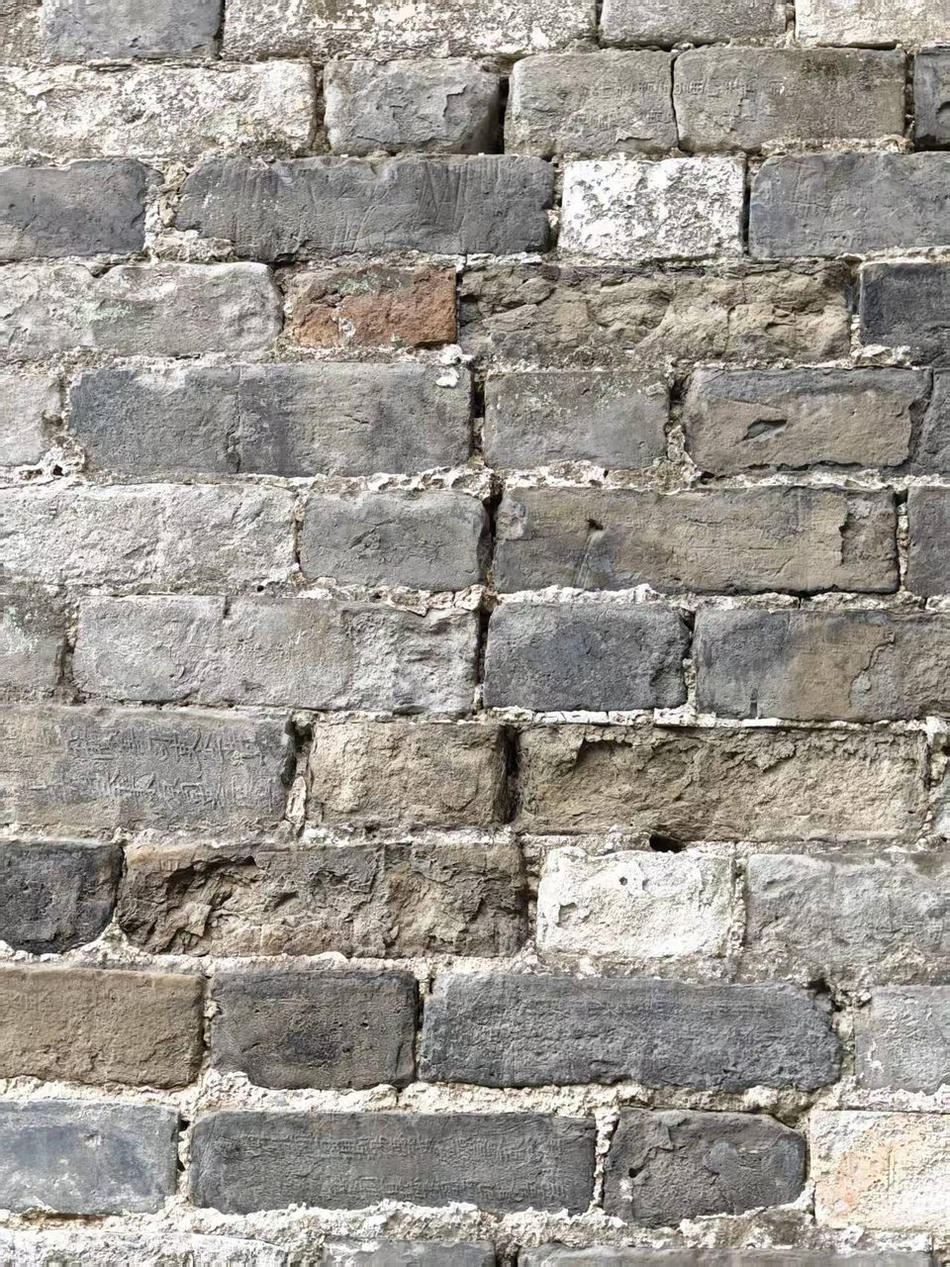crack: (435, 251, 563, 910)
